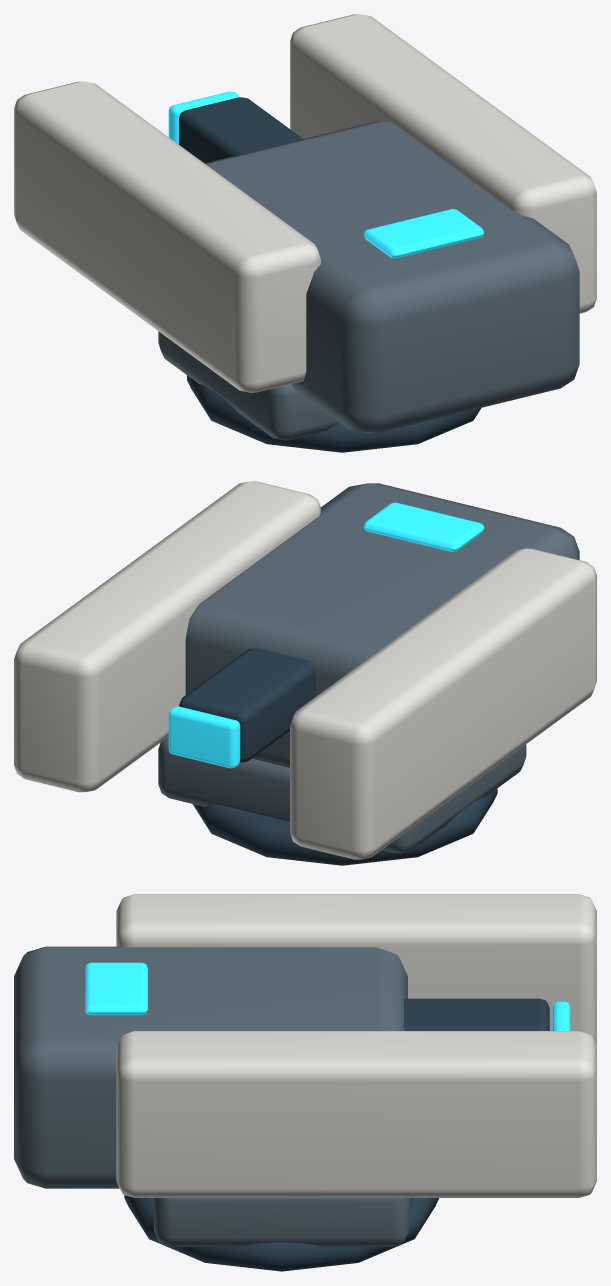
Rendered from long_laser.glb.
The picture shows the model from 3 angles, top to bottom: view 1: azimuth 30°, elevation 25°; view 2: azimuth 150°, elevation 25°; view 3: azimuth 270°, elevation 25°; orthographic projection.
Visible parts, largest first — view 1: BeamCapacitor, Unused_BeamFork, BeamFork, RotationYoke, BeamChannel, RotationBearing, CapacitorLight, BeamLens; view 2: Unused_BeamFork, BeamFork, BeamCapacitor, RotationYoke, BeamChannel, RotationBearing, BeamLens, CapacitorLight; view 3: BeamFork, BeamCapacitor, Unused_BeamFork, RotationYoke, RotationBearing, BeamChannel, CapacitorLight, BeamLens.
Part boxes in pixels (x1=…): BeamCapacitor: x1=205, y1=121, x2=579, y2=432; Unused_BeamFork: x1=14, y1=81, x2=320, y2=392; BeamFork: x1=290, y1=14, x2=596, y2=313; RotationYoke: x1=158, y1=331, x2=339, y2=440; BeamChannel: x1=179, y1=97, x2=303, y2=163; RotationBearing: x1=187, y1=375, x2=481, y2=452; CapacitorLight: x1=363, y1=209, x2=484, y2=258; BeamLens: x1=168, y1=91, x2=238, y2=144; Unused_BeamFork: x1=290, y1=548, x2=596, y2=859; BeamFork: x1=14, y1=481, x2=320, y2=792; BeamCapacitor: x1=185, y1=483, x2=579, y2=767; RotationYoke: x1=158, y1=737, x2=526, y2=853; BeamChannel: x1=179, y1=647, x2=315, y2=762; RotationBearing: x1=192, y1=788, x2=497, y2=865; BeamLens: x1=168, y1=706, x2=240, y2=768; CapacitorLight: x1=364, y1=502, x2=484, y2=551; BeamFork: x1=116, y1=1031, x2=596, y2=1197; BeamCapacitor: x1=14, y1=946, x2=407, y2=1188; Unused_BeamFork: x1=116, y1=894, x2=596, y2=1045; RotationYoke: x1=154, y1=1198, x2=409, y2=1246; RotationBearing: x1=124, y1=1195, x2=438, y2=1271; BeamChannel: x1=404, y1=998, x2=549, y2=1030; CapacitorLight: x1=85, y1=962, x2=147, y2=1015; BeamLens: x1=552, y1=1001, x2=570, y2=1030.
Bounding box in the file's own units: 1.07 × 0.655 × 1.48.
